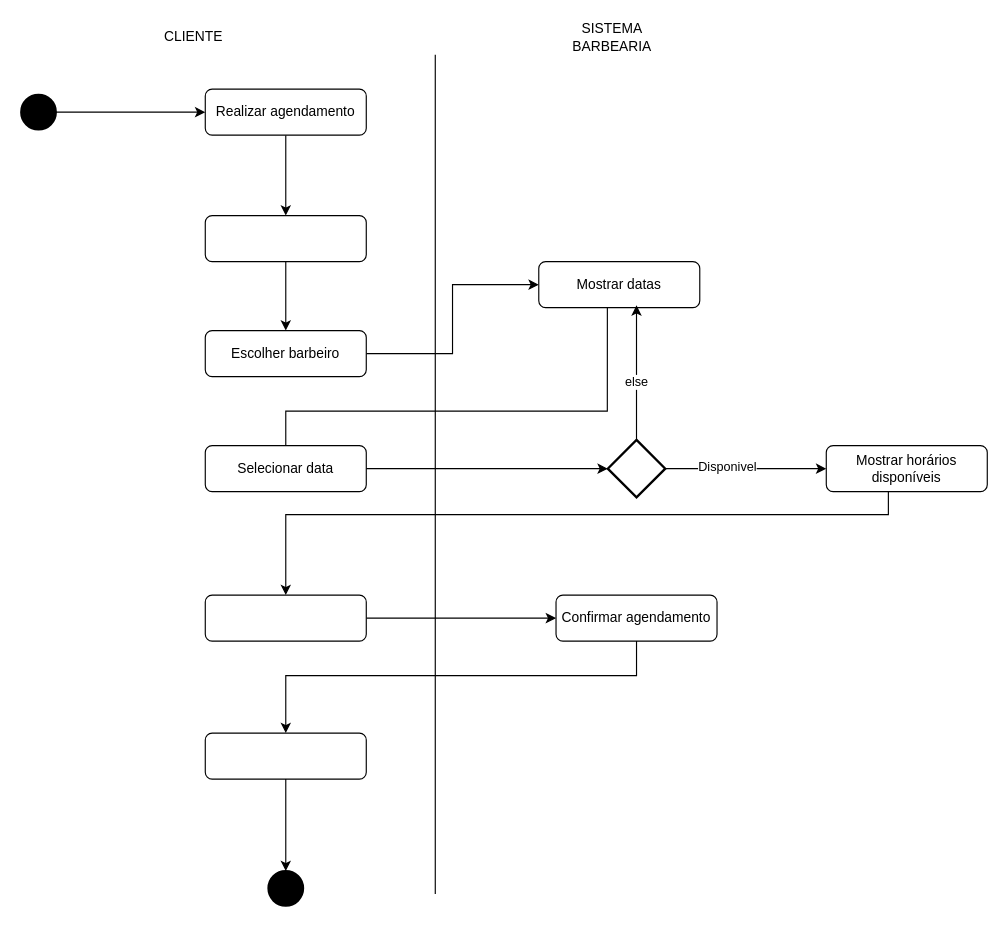
Image size: 1007x926. Some labels were removed from this diagram. Here are the shapes that lost their labels. From the top down, the centre of each, then its label:
(285,238): Escolher serviço
(285,617): Seleciona horário
(285,755): Visualiza confirmação
